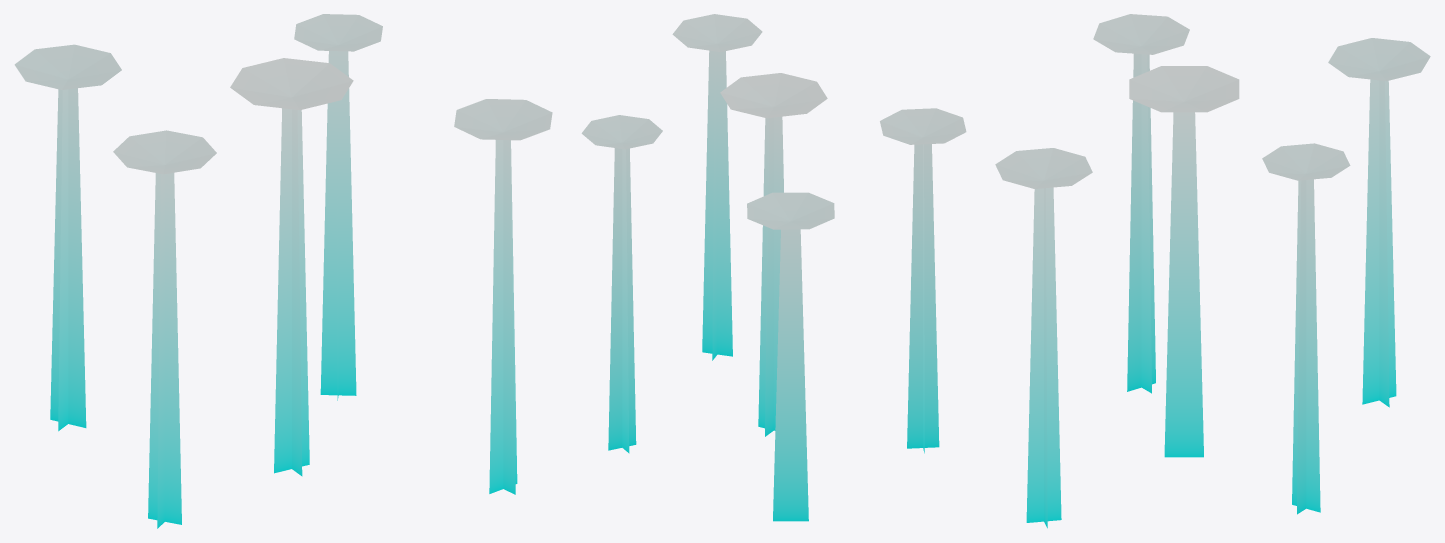
The model's file is Flower_A2_0.7m_Cluster_01.fbx.
3 renders of one model, left to right at view 1: azimuth 30°, elevation 25°; view 2: azimuth 150°, elevation 25°; view 3: azimuth 270°, elevation 25°, orthographic. The views are drawn at different scales.
Visible parts, largest first — view 1: Flower_A2_0.7m_Cluster_01_LOD0; view 2: Flower_A2_0.7m_Cluster_01_LOD0; view 3: Flower_A2_0.7m_Cluster_01_LOD0.
Boxes of the visible parts, x1,y1,x2,y2 form: Flower_A2_0.7m_Cluster_01_LOD0: (14, 14, 552, 528); Flower_A2_0.7m_Cluster_01_LOD0: (581, 14, 966, 521); Flower_A2_0.7m_Cluster_01_LOD0: (995, 14, 1430, 528).
Size of what is drawn, in the model's own units: 0.6796 by 0.6658 by 0.7143.
